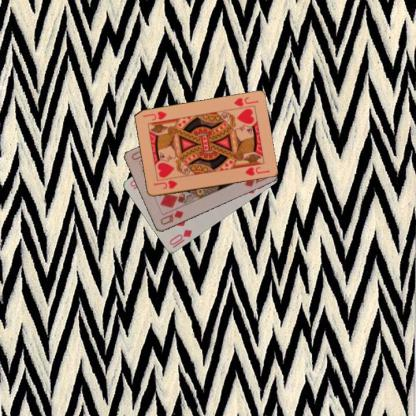10d: (167, 227, 194, 247)
Jh: (231, 95, 260, 108), (151, 178, 178, 190)
Qd: (158, 208, 185, 226)
